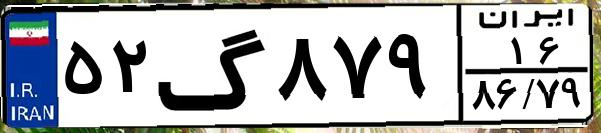1: (508, 27, 537, 80)
2: (110, 28, 156, 98)
5: (57, 26, 110, 100)
6: (537, 27, 568, 80), (495, 70, 520, 125)
7: (330, 28, 385, 110), (535, 70, 560, 125)
8: (270, 28, 330, 110), (470, 70, 495, 125)
9: (385, 28, 445, 110), (560, 70, 590, 125)
گ: (156, 12, 270, 120)
